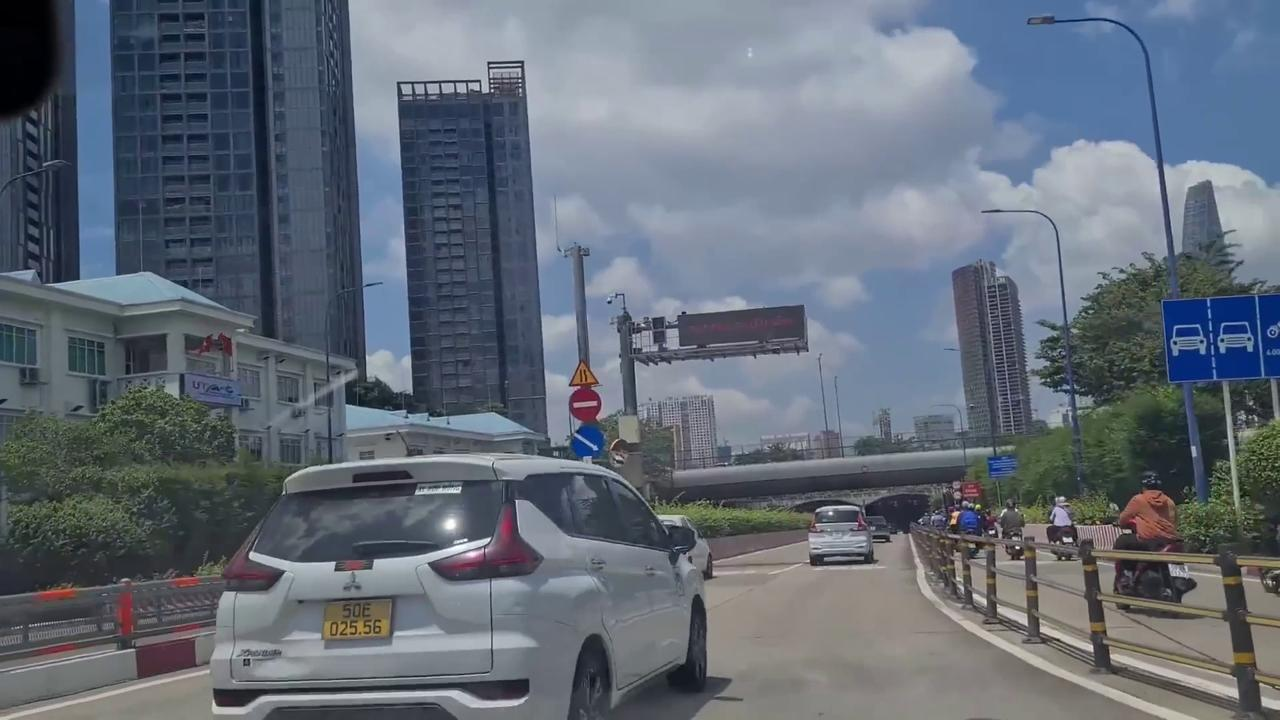Cấm đi ngược chiều: (568, 387, 602, 423)
Hướng phải đi vòng sang phải: (569, 424, 606, 458)
Đuờng hẹp: (567, 360, 601, 386)
